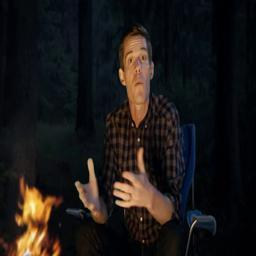fire: (17, 175, 62, 256)
